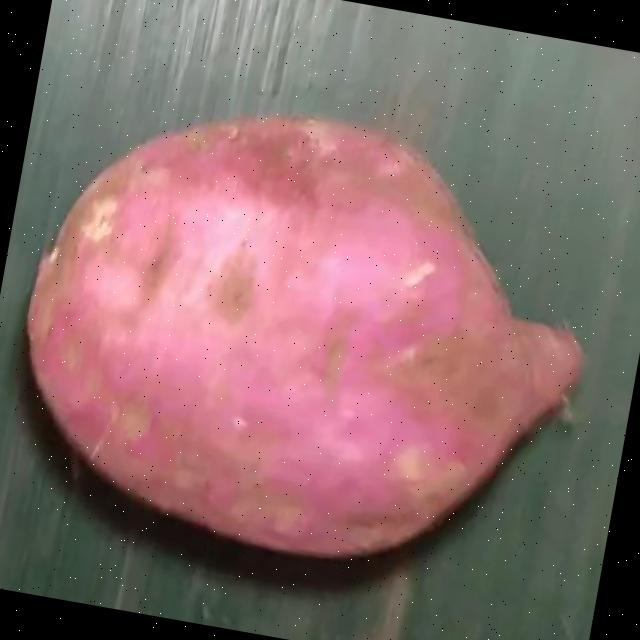Sweet Potato: (25, 114, 587, 559)
